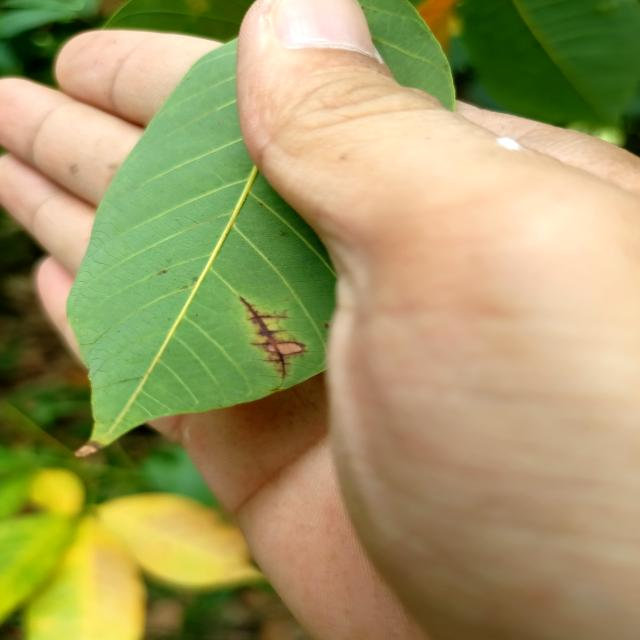Corynespora: (238, 296, 308, 380)
